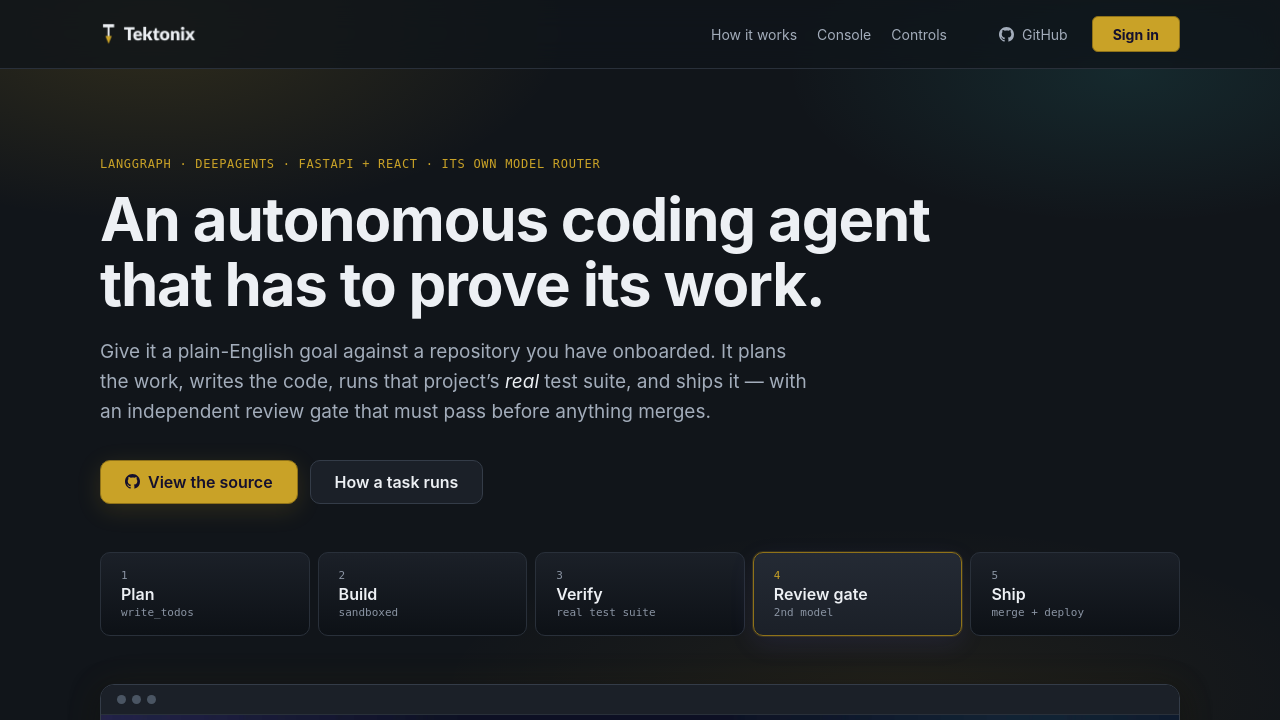
Test: App — signed out › reaches the login form via Sign in, and back again
Expected: the heading is shown, top-left (100, 183), bottom-right (930, 320)
Click the button "Sign in" at (1136,34), box top-left (1092, 16), bottom-right (1180, 52)
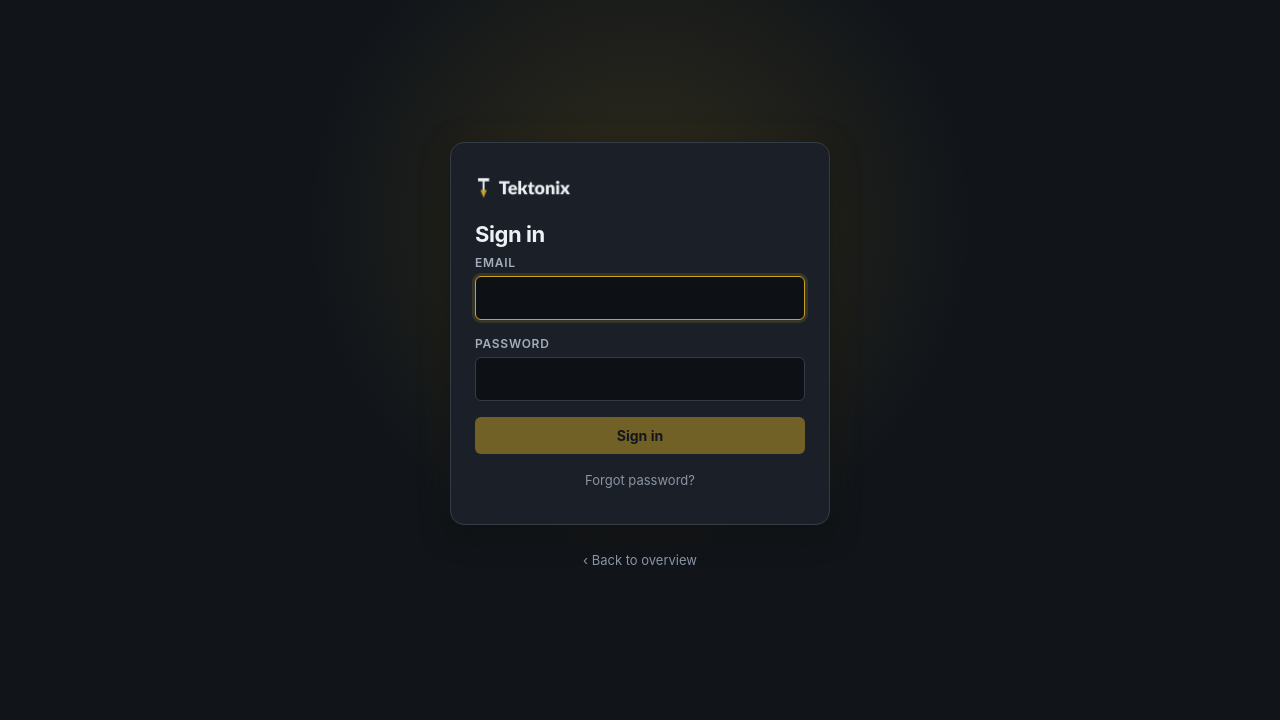
Now the heading "Sign in" is shown, box top-left (475, 220), bottom-right (545, 246)
Click the button "‹ Back to overview" at (640,560), box top-left (573, 540), bottom-right (707, 578)
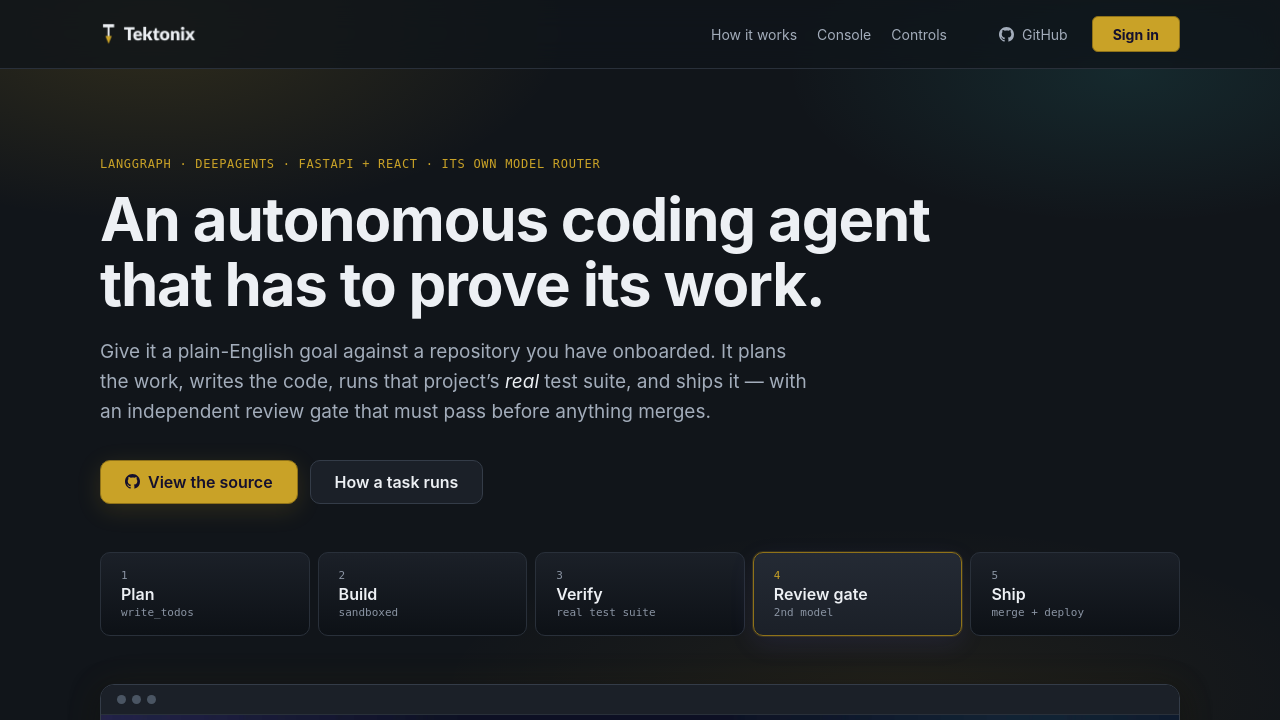
Now the heading shows "autonomous coding agent", box top-left (100, 183), bottom-right (930, 255)
